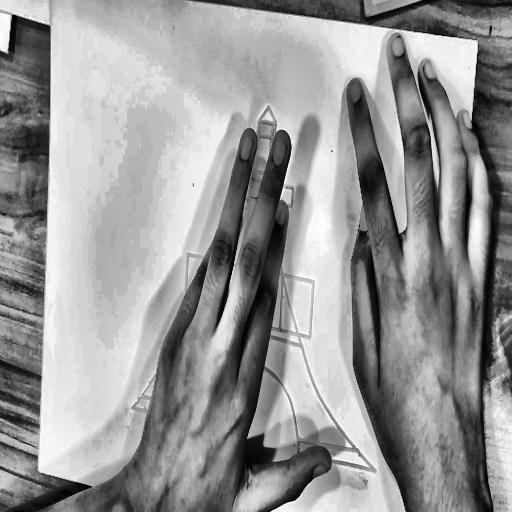bottom_left: (35, 465, 41, 475)
eiffel-tower: (116, 78, 405, 481)
top_right: (475, 37, 481, 47)
